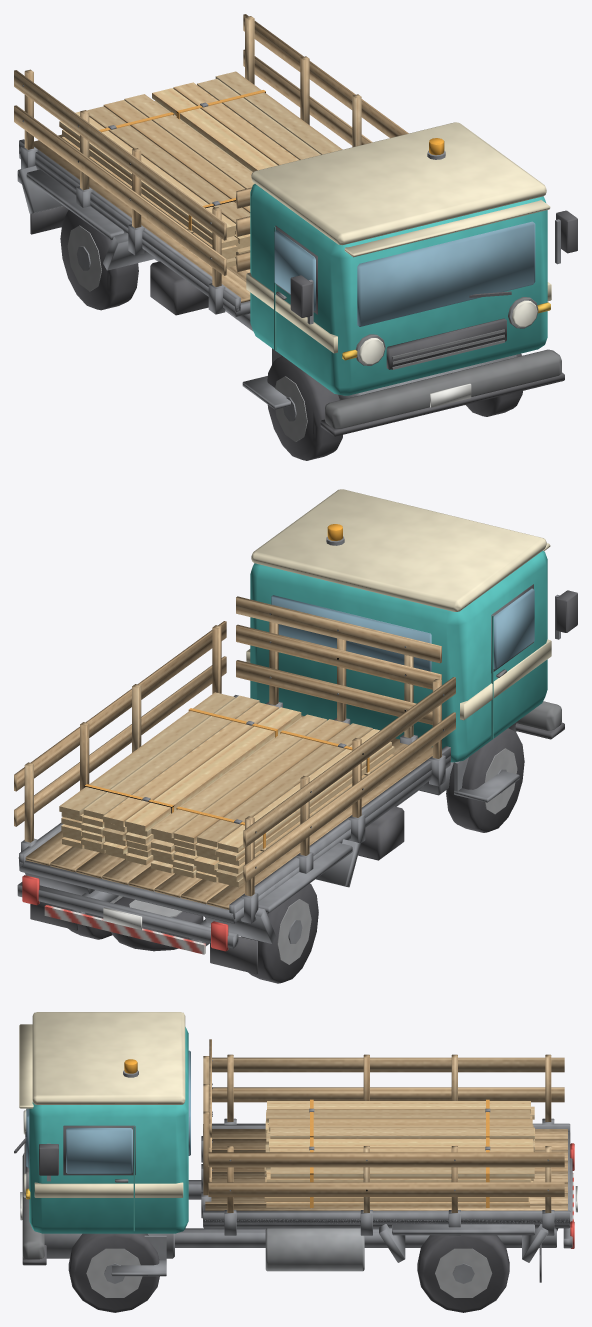
Rendered from Works_LumberTruck.fbx.
3 renders of one model, top to bottom at view 1: azimuth 30°, elevation 25°; view 2: azimuth 150°, elevation 25°; view 3: azimuth 270°, elevation 25°, orthographic. The views are drawn at different scales.
Parts seen in each view (by area): view 1: Body, Load_1, Load_0, Wheel_1, Wheel_3, Load_3, Wheel_0; view 2: Body, Load_0, Load_1, Wheel_1, Wheel_3, Load_3, Load_2; view 3: Body, Load_1, Load_0, Wheel_2, Wheel_0, Load_2.
Part boxes in pixels (box(x1,y1,x2,y2)): Body: box(14, 14, 577, 436); Load_1: box(59, 94, 254, 248); Load_0: box(152, 71, 342, 172); Wheel_1: box(267, 356, 342, 460); Wheel_3: box(60, 210, 138, 310); Load_3: box(61, 137, 250, 267); Wheel_0: box(466, 353, 522, 416); Body: box(14, 489, 577, 974); Load_0: box(59, 692, 302, 844); Load_1: box(151, 714, 394, 865); Wheel_1: box(446, 728, 524, 832); Wheel_3: box(241, 883, 318, 983); Load_3: box(151, 754, 394, 887); Load_2: box(61, 824, 154, 865); Body: box(14, 1012, 577, 1282); Load_1: box(265, 1099, 534, 1151); Load_0: box(265, 1137, 534, 1182); Wheel_2: box(417, 1235, 509, 1312); Wheel_0: box(68, 1233, 159, 1312); Load_2: box(264, 1167, 534, 1207).
Size of the model in its own units: 2.46 by 2.32 by 5.13.
1 material, 1 textured.
